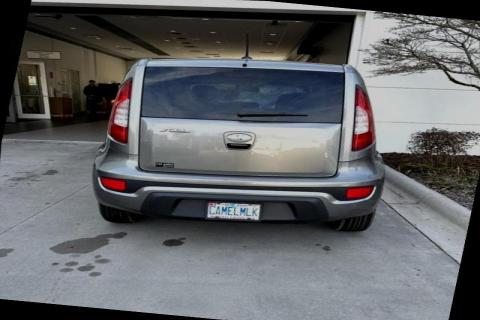LicensePlate: (201, 199, 262, 221)
